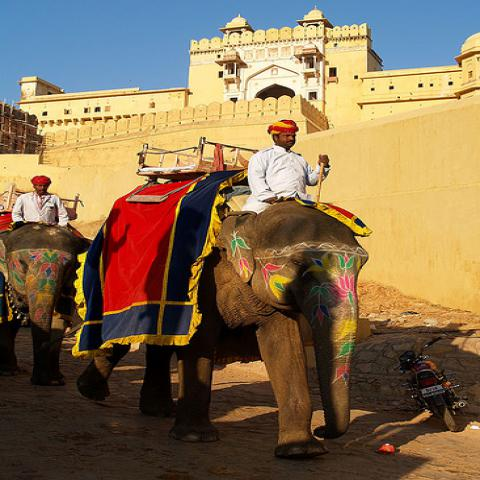motorcycle: (399, 337, 464, 431)
